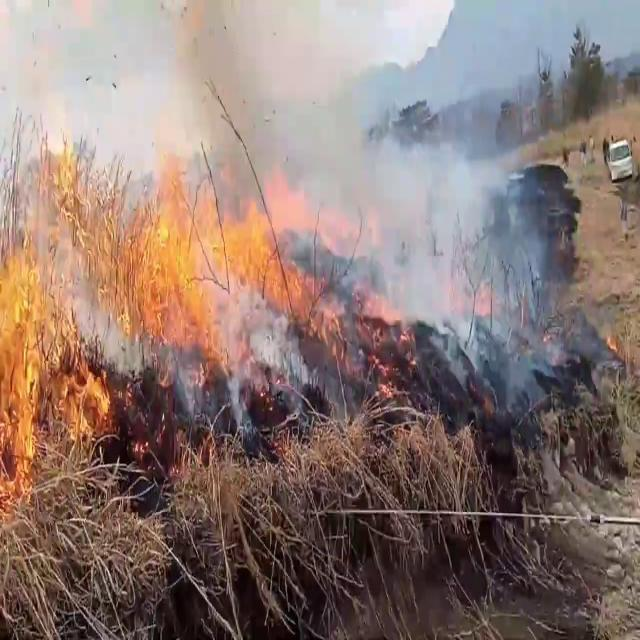Fire: (117, 137, 340, 385), (0, 105, 139, 433)
Smoke: (266, 2, 558, 410)
